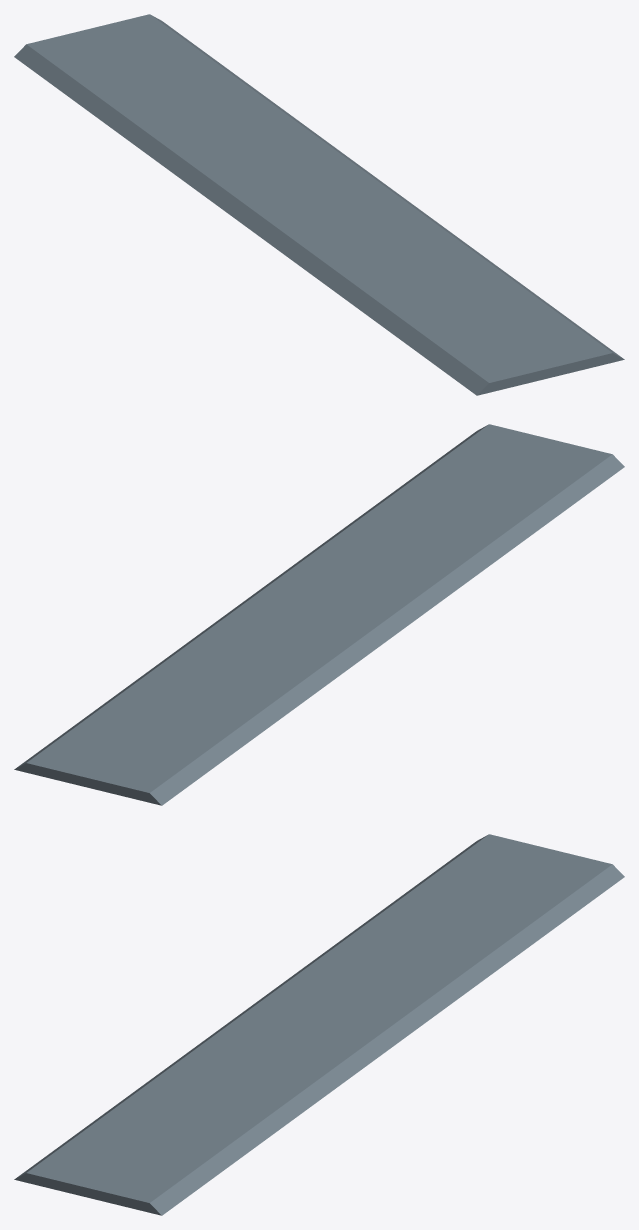
Rendered from threshold-bridge-canada.glb.
3 renders of one model, top to bottom at view 1: azimuth 30°, elevation 25°; view 2: azimuth 150°, elevation 25°; view 3: azimuth 330°, elevation 25°, orthographic.
Visible parts, largest first — view 1: threshold-bridge-canada; view 2: threshold-bridge-canada; view 3: threshold-bridge-canada.
Part boxes in pixels (left/top/right/bottom): threshold-bridge-canada: left=14, top=14, right=624, bottom=395; threshold-bridge-canada: left=14, top=424, right=624, bottom=805; threshold-bridge-canada: left=14, top=834, right=624, bottom=1215.
Bounding box in the file's own units: 0.24 × 0.015 × 1.3.
